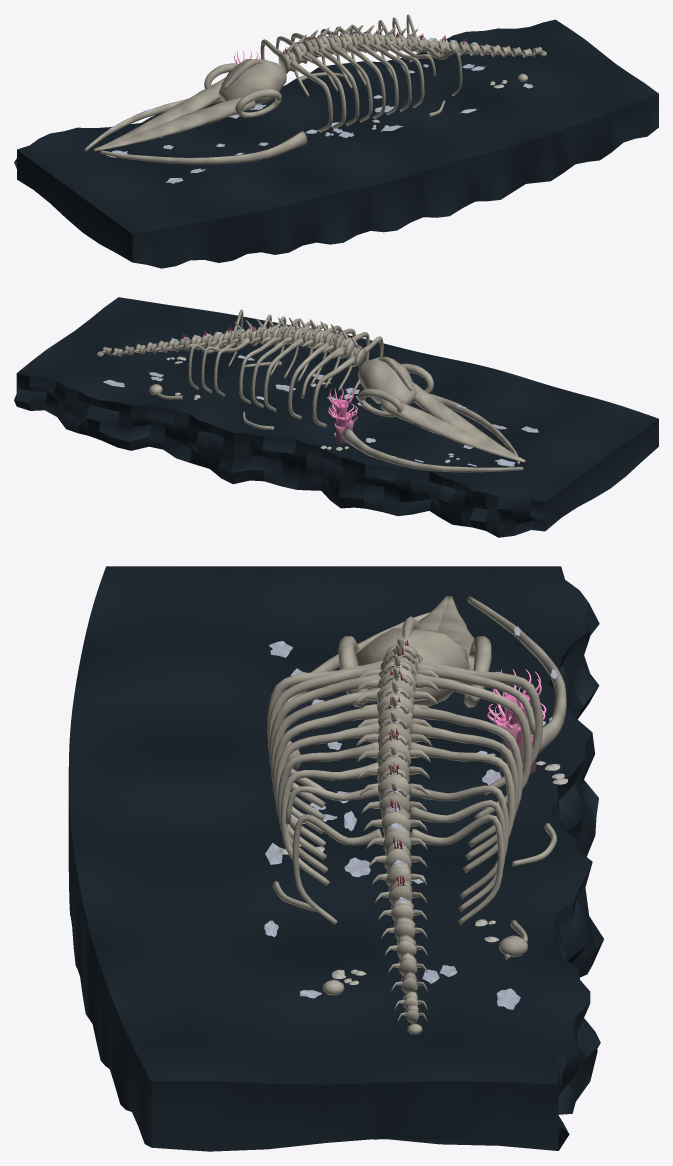
File: osamenta-ballena.glb
3 views of the same model, one above another, from view 1: azimuth 30°, elevation 25°; view 2: azimuth 150°, elevation 25°; view 3: azimuth 270°, elevation 25° (orthographic). The views are drawn at different scales.
Visible parts, largest first — view 1: ledge, skull, ribs, spine, colony; view 2: ledge, skull, ribs, spine, colony, lantern-b; view 3: ledge, ribs, spine, skull, colony.
Part boxes in pixels (x1,y1,x2,y2): ledge: (14, 19, 658, 268); skull: (84, 59, 307, 164); ribs: (260, 14, 462, 132); spine: (278, 25, 546, 81); colony: (106, 29, 533, 183); ledge: (14, 297, 658, 537); skull: (343, 356, 525, 472); ribs: (157, 309, 383, 430); spine: (97, 317, 366, 394); colony: (103, 323, 538, 466); lantern-b: (328, 388, 353, 436); ledge: (68, 566, 603, 1151); ribs: (267, 660, 556, 959); spine: (322, 638, 528, 1034); skull: (284, 596, 566, 770); colony: (264, 626, 567, 1009).
Size of the model in its own units: 36 by 9.47 by 15.78.
